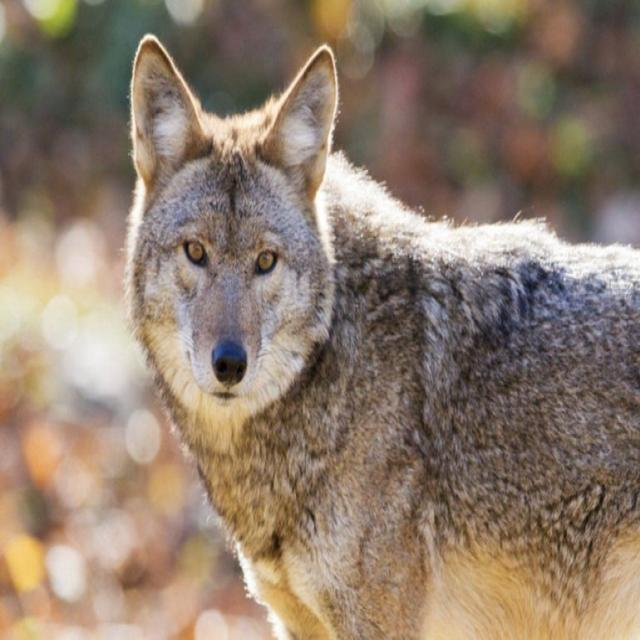Coyote: (116, 25, 639, 640)
